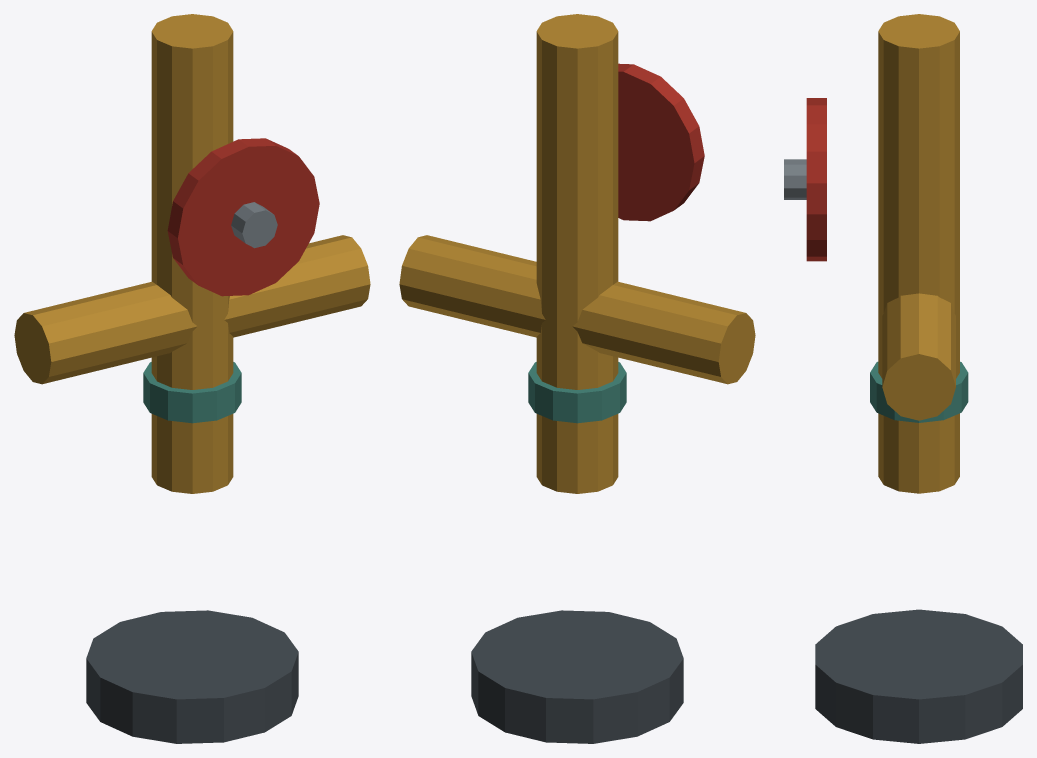
The model's file is decor_4.fbx.
3 views of the same model, side by side, from view 1: azimuth 30°, elevation 25°; view 2: azimuth 150°, elevation 25°; view 3: azimuth 270°, elevation 25° (orthographic).
Parts seen in each view (by area): view 1: decor_4; view 2: decor_4; view 3: decor_4.
Boxes of the visible parts, left/top/right/bottom form: decor_4: left=14, top=14, right=370, bottom=743; decor_4: left=399, top=14, right=755, bottom=743; decor_4: left=784, top=14, right=1022, bottom=743.
Size of the model in its own units: 0.9 by 1.8 by 0.5835.
